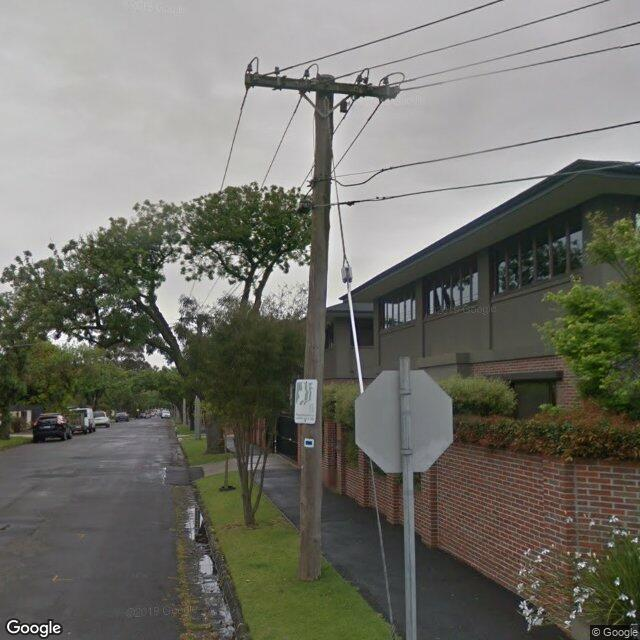crossarm: (245, 54, 404, 100)
timber-pole: (297, 73, 336, 582)
